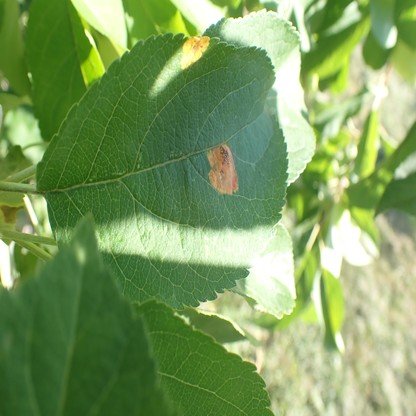rust: (207, 145, 239, 194), (180, 36, 209, 72)
